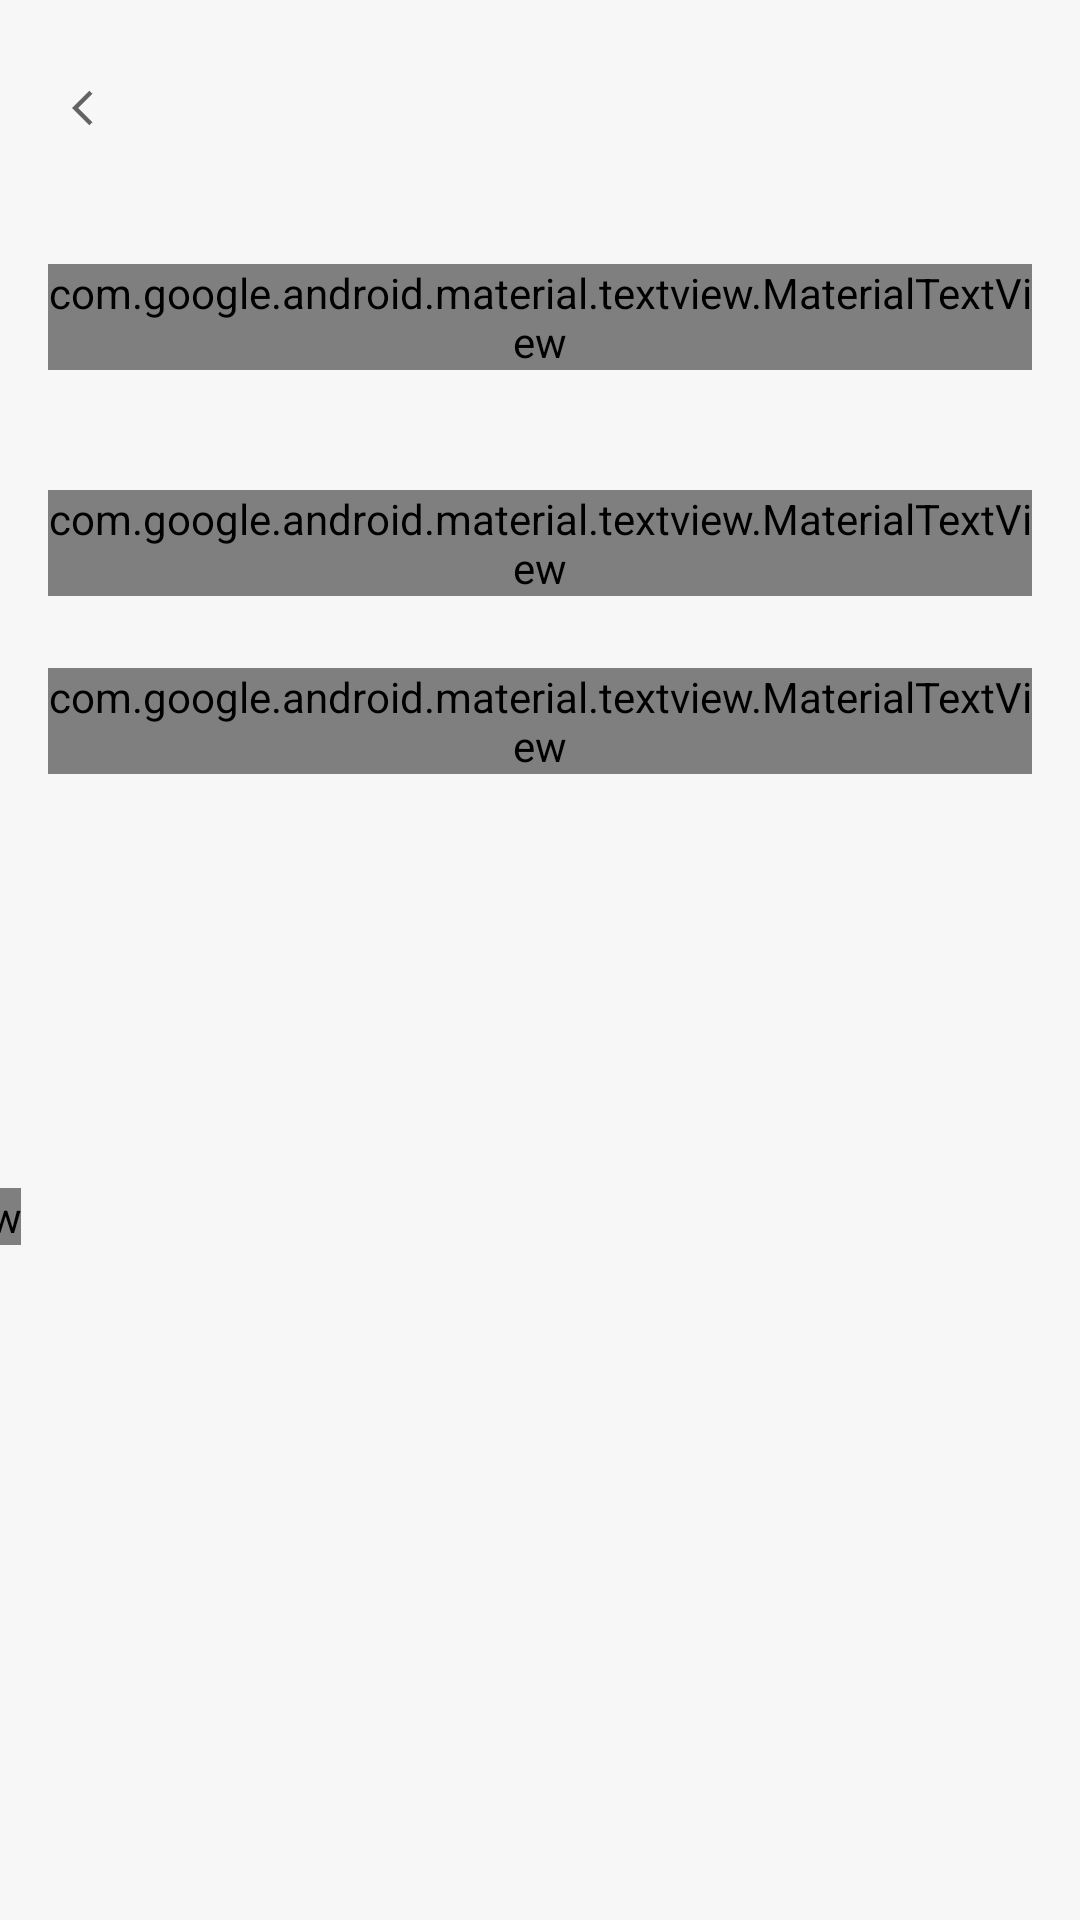

Where to tap for icons on this 1080x1920 app screen, as (x=x, y=y):
back button: (x=82, y=108)
